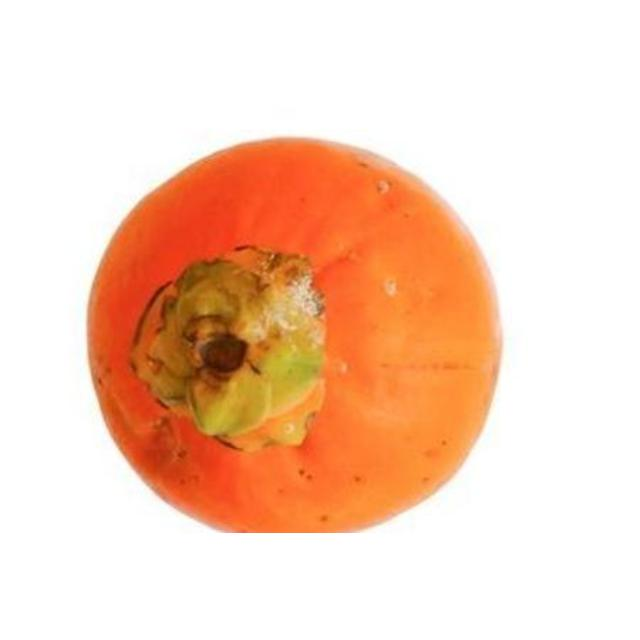good: (84, 137, 506, 532)
